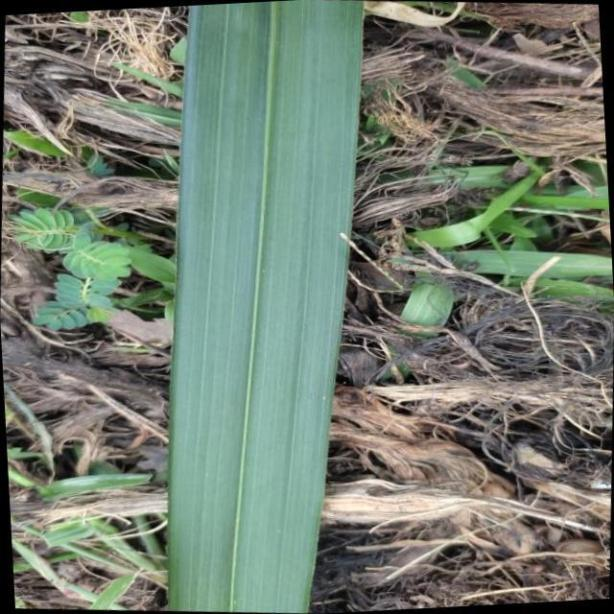Healthy: (163, 0, 368, 614)
